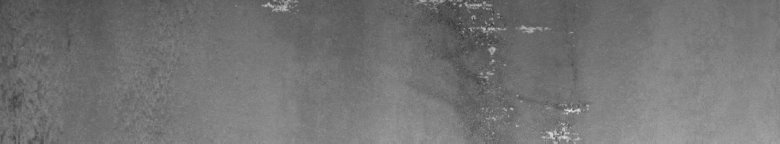hc: (414, 4, 590, 136)
